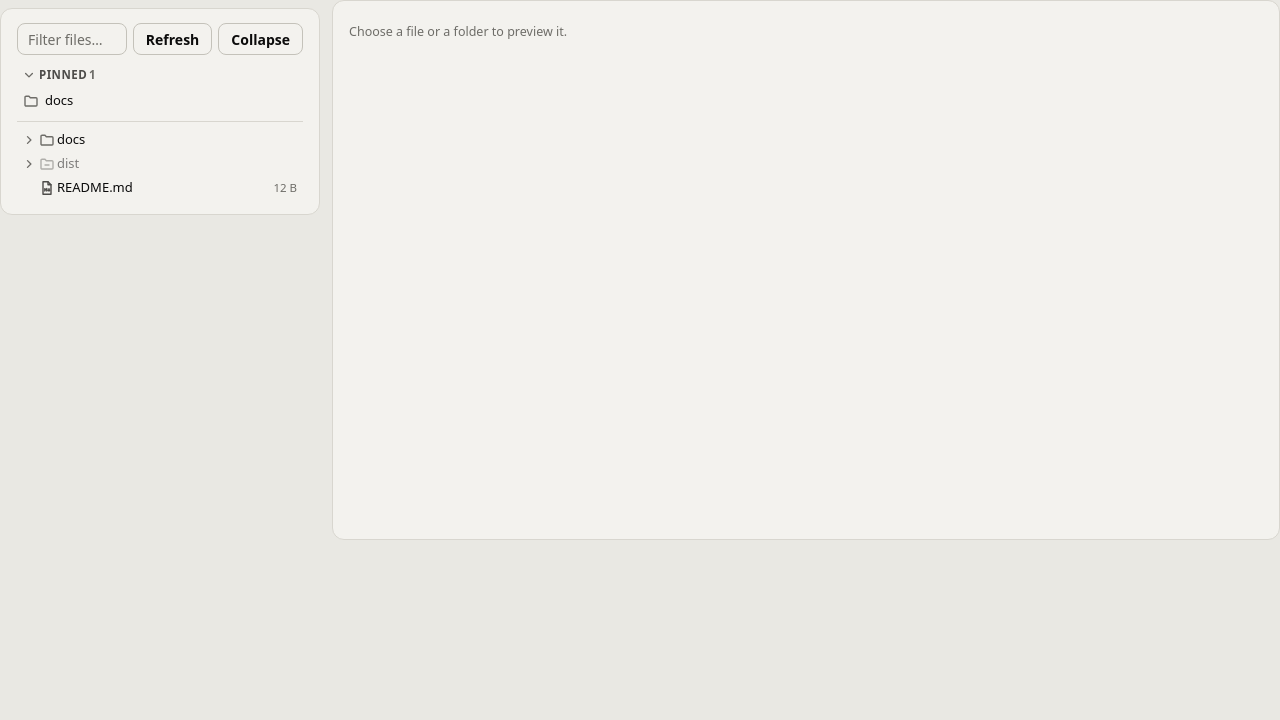
Test: ProjectFiles › a pinned folder opens like the folder in the tree: its contents on the right, the tree following
Click the button titled "docs" at [146, 101], box top-left (17, 89), bottom-right (275, 113)
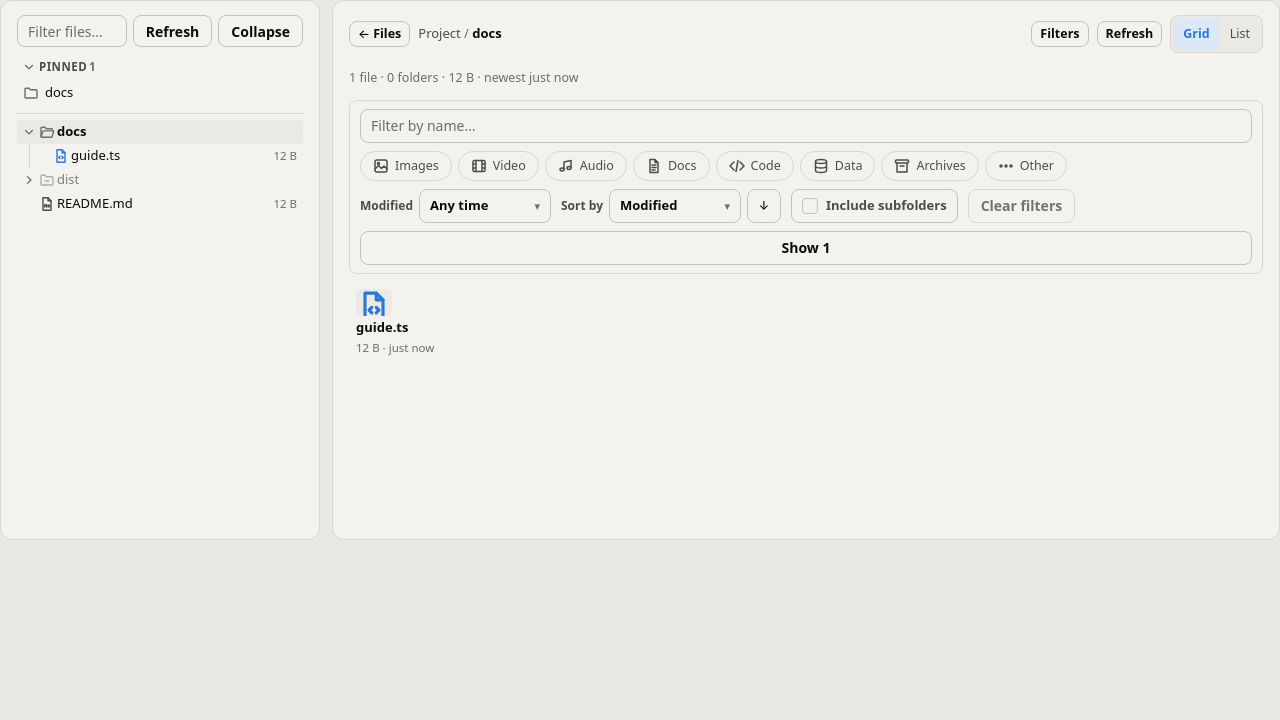
Check: the navigation bar named "Folder path" is shown, box top-left (418, 24), bottom-right (502, 44)
